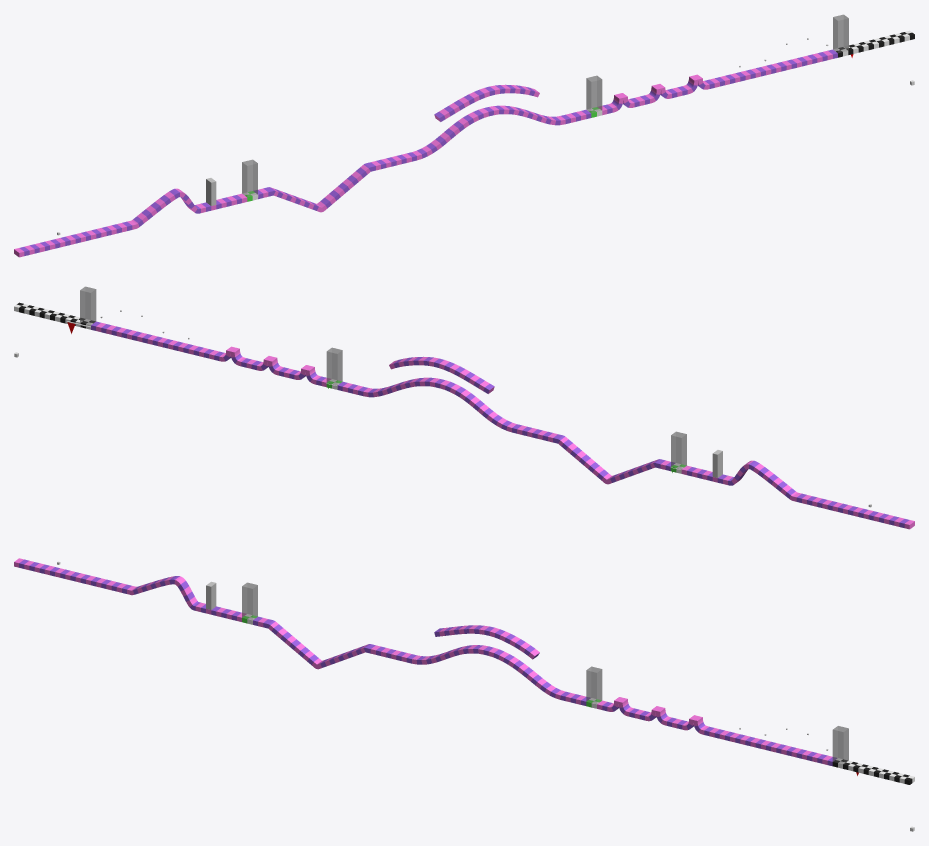
3 renders of one model, top to bottom at view 1: azimuth 30°, elevation 25°; view 2: azimuth 150°, elevation 25°; view 3: azimuth 330°, elevation 25°, orthographic.
Visible parts, largest first — view 1: Floor.001, Finish_Floor, Checkpoint.001, Finish, Checkpoint.002; view 2: Floor.001, Finish_Floor, Finish, Checkpoint.001, Checkpoint.002; view 3: Floor.001, Finish_Floor, Finish, Checkpoint.001, Checkpoint.002.
Part boxes in pixels (x1,y1,x2,y2): Floor.001: (14,49,837,257); Finish_Floor: (833,30,914,57); Checkpoint.001: (586,75,602,113); Finish: (833,14,848,52); Checkpoint.002: (242,159,257,197); Floor.001: (91,321,914,529); Finish_Floor: (14,302,95,329); Finish: (80,286,96,324); Checkpoint.001: (326,347,342,385); Checkpoint.002: (671,431,686,469); Floor.001: (14,558,836,766); Finish_Floor: (832,758,914,784); Finish: (832,726,848,764); Checkpoint.001: (586,666,602,703); Checkpoint.002: (242,582,257,620).
Size of what is drawn, in the model's own units: 175 by 18.36 by 1.93.
5 materials, 1 textured.
